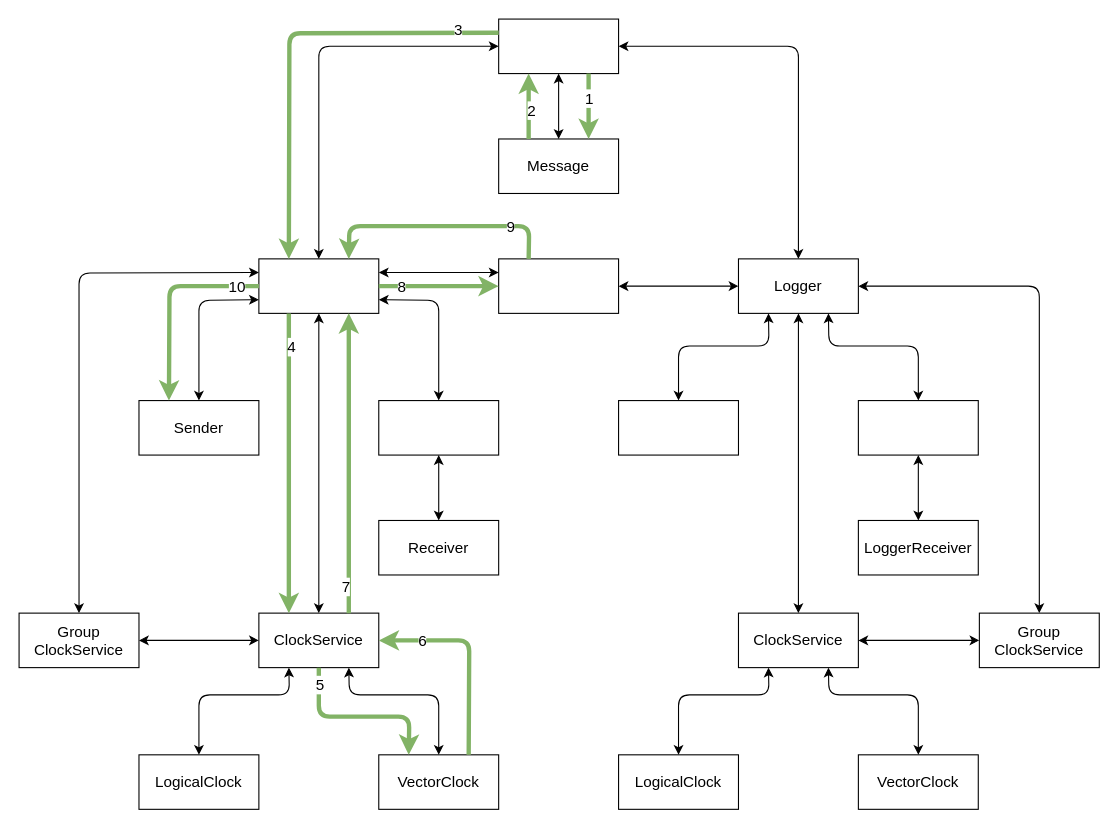
The diagram is 1118 pixels wide and 828 high, and some of its shapes have lost their labels. The shapes that lost their labels are listed below. From the top down, each one's centre as x and y in pixels, then its label:
At pixel 558 46: "Interface".
At pixel 318 285: "MessagePasser".
At pixel 558 285: "TimeStamped Message".
At pixel 438 427: "Listener".
At pixel 677 427: "LoggerSender".
At pixel 917 427: "LoggerListener".
